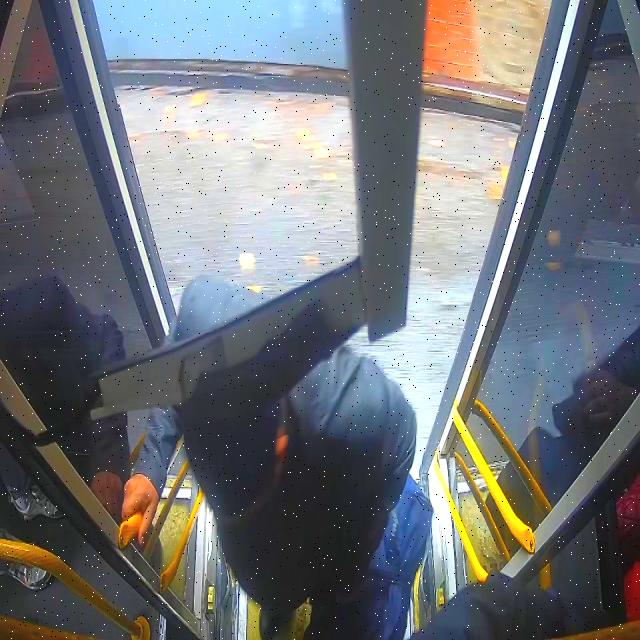open: (74, 3, 576, 489)
